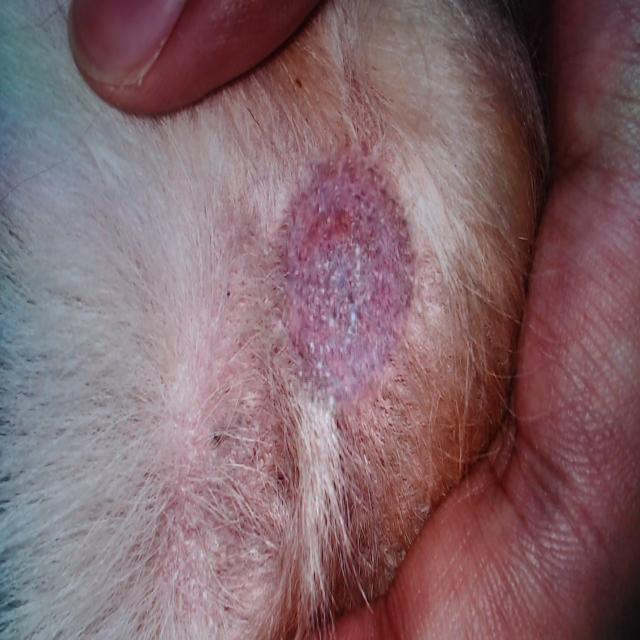ringworm: (269, 127, 425, 406)
